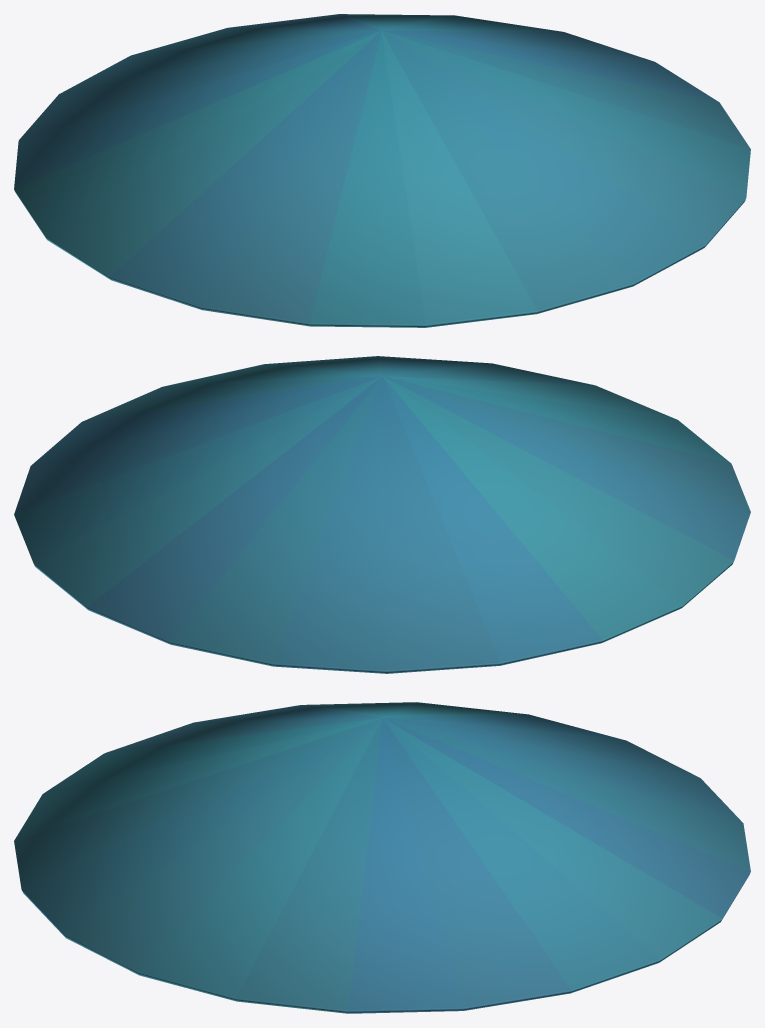
3 views of the same model, one above another, from view 1: azimuth 30°, elevation 25°; view 2: azimuth 150°, elevation 25°; view 3: azimuth 270°, elevation 25° (orthographic).
Visible parts, largest first — view 1: color.001; view 2: color.001; view 3: color.001.
Part boxes in pixels (<box>): color.001: <box>14,14,750,327</box>; color.001: <box>14,356,750,673</box>; color.001: <box>14,702,750,1013</box>.
Size of the model in its own units: 0.5 by 0.1077 by 0.5.
